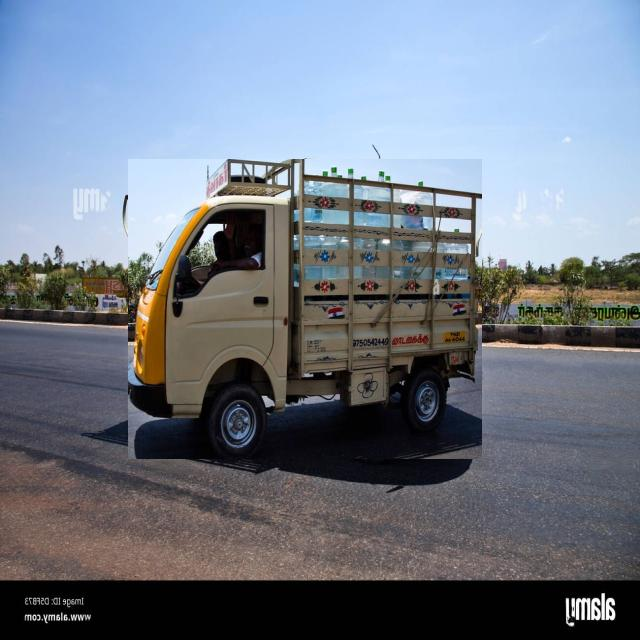truck: (128, 160, 481, 459)
